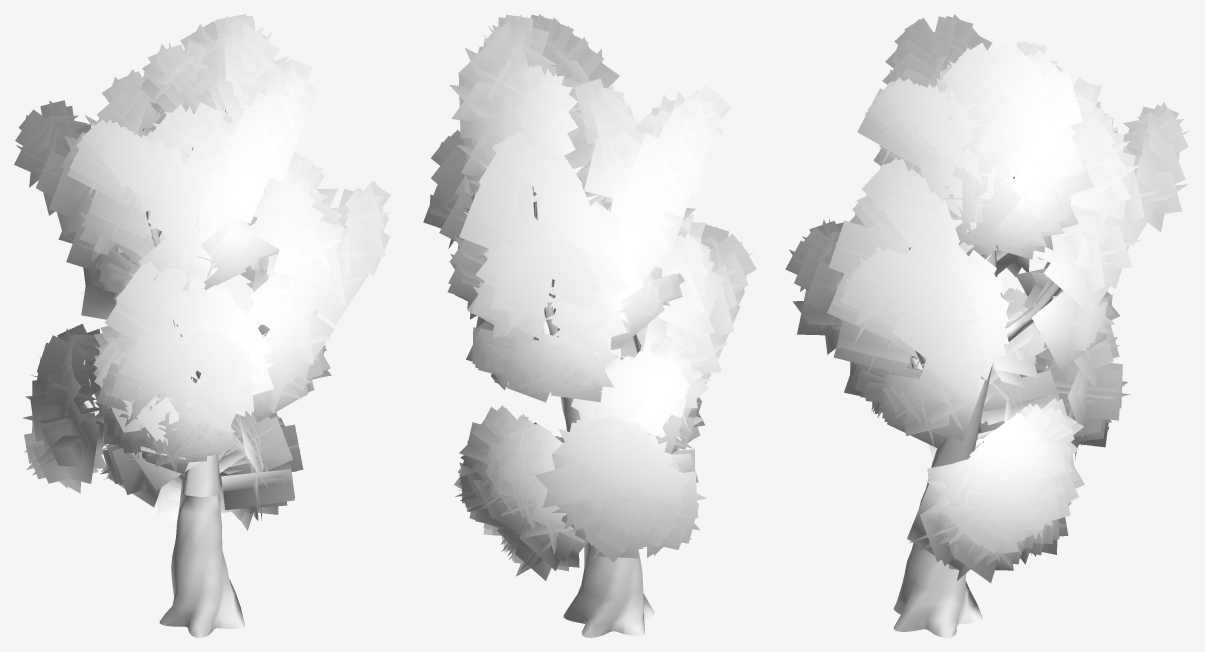
File: arbre_4.glb
3 views of the same model, side by side, from view 1: azimuth 30°, elevation 25°; view 2: azimuth 150°, elevation 25°; view 3: azimuth 270°, elevation 25° (orthographic). The views are drawn at different scales.
Visible parts, largest first — view 1: TwistedTree_4, TwistedTree_4-col; view 2: TwistedTree_4, TwistedTree_4-col; view 3: TwistedTree_4, TwistedTree_4-col.
Part boxes in pixels (x1,y1,x2,y2): TwistedTree_4: [14, 14, 391, 530]; TwistedTree_4-col: [159, 492, 244, 637]; TwistedTree_4: [423, 14, 756, 580]; TwistedTree_4-col: [563, 542, 654, 637]; TwistedTree_4: [785, 14, 1189, 582]; TwistedTree_4-col: [893, 488, 982, 637].
Size of the model in its own units: 10.38 by 18.74 by 11.29.
2 materials, 1 textured.
